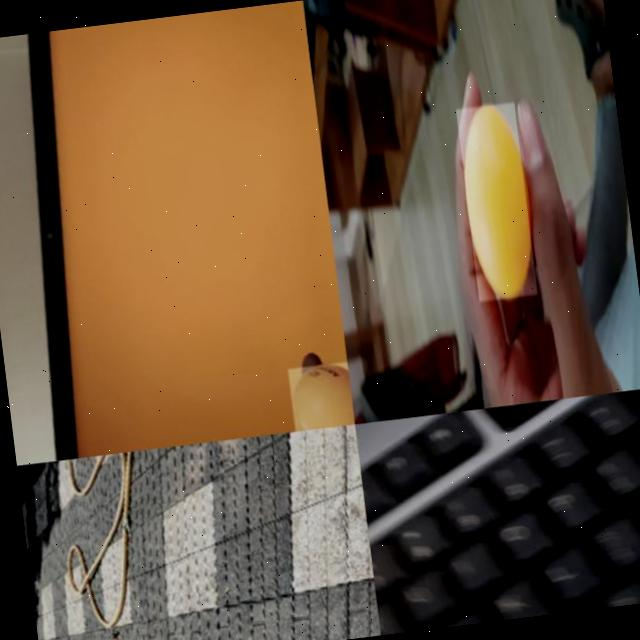ping-pong-ball: (454, 100, 537, 302), (286, 359, 352, 432)
